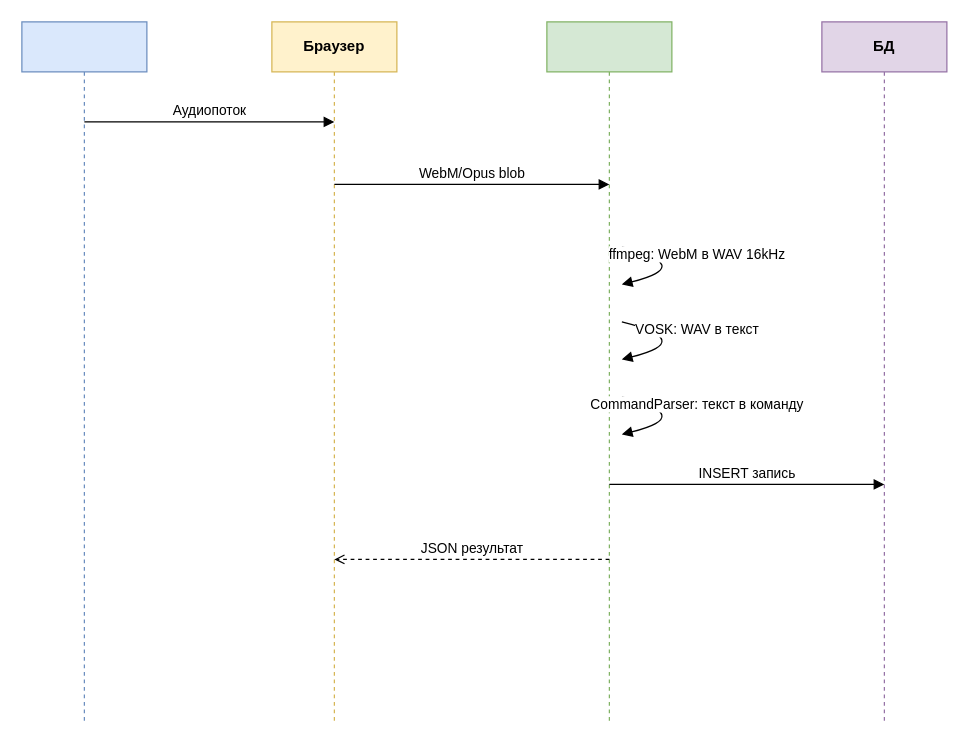
This 969x744 diagram has some shape labels left out. Here are the shapes that lost their labels. From the top down, the box of each, then its label:
(21, 21, 147, 722): Микрофон
(546, 21, 672, 722): Backend
